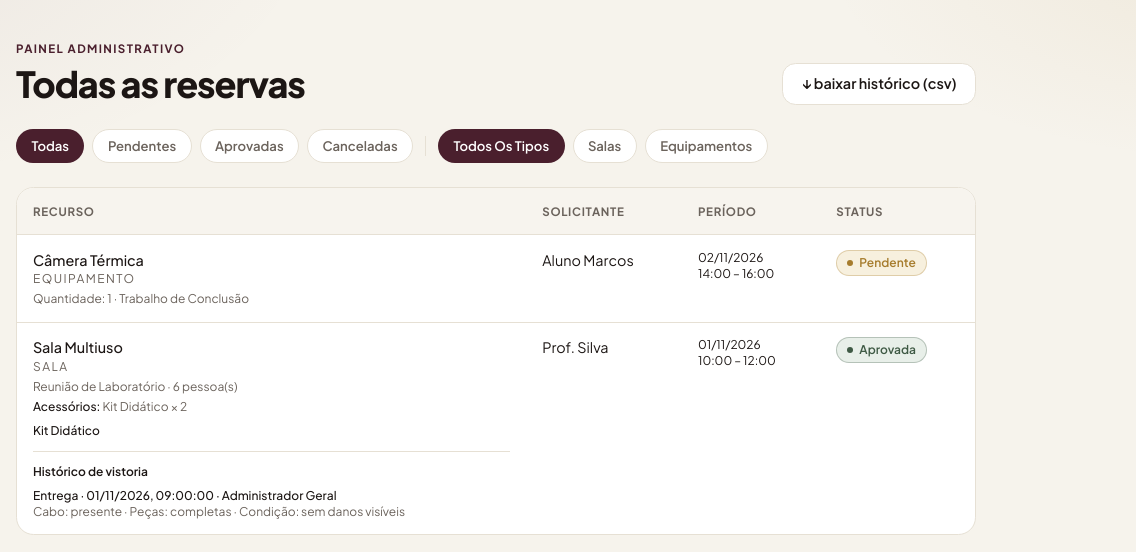
Test: AdminReservas Page › filtra reservas por tipo de recurso (apenas equipamentos)
Expected: the text "Sala Multiuso" is shown, [33,338,123,356]
Click the button "equipamentos" at {"x": 706, "y": 146}, box [645,129,768,163]
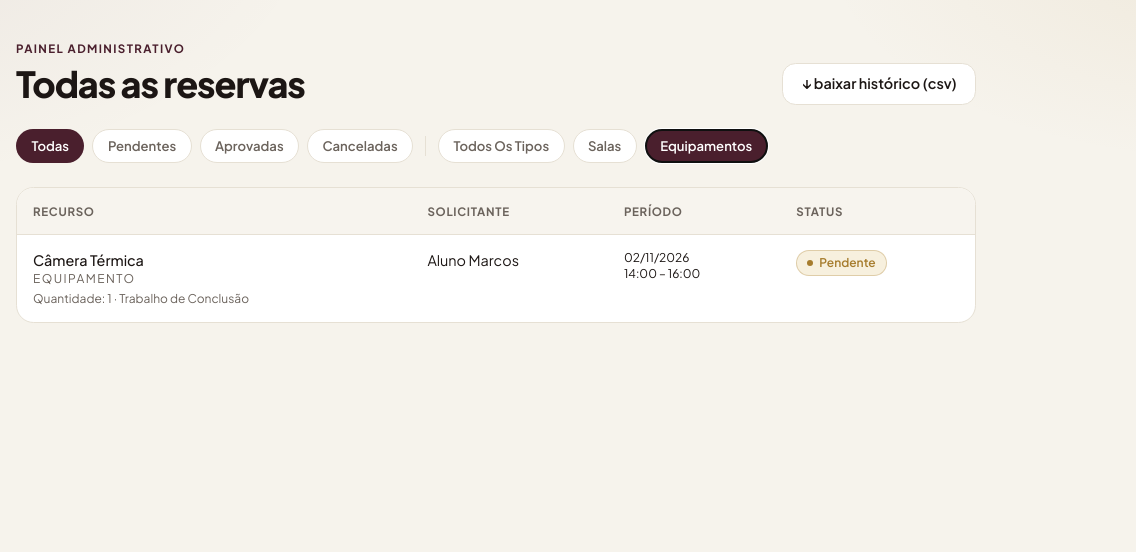
Expected: the text "Câmera Térmica" is shown, [33,251,144,269]
Result: the text "Sala Multiuso" is gone
